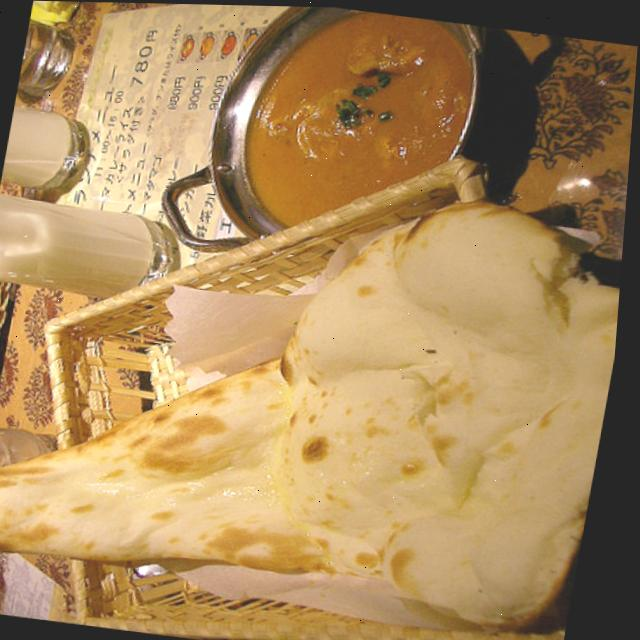牛肉菜式: (193, 4, 522, 270)
